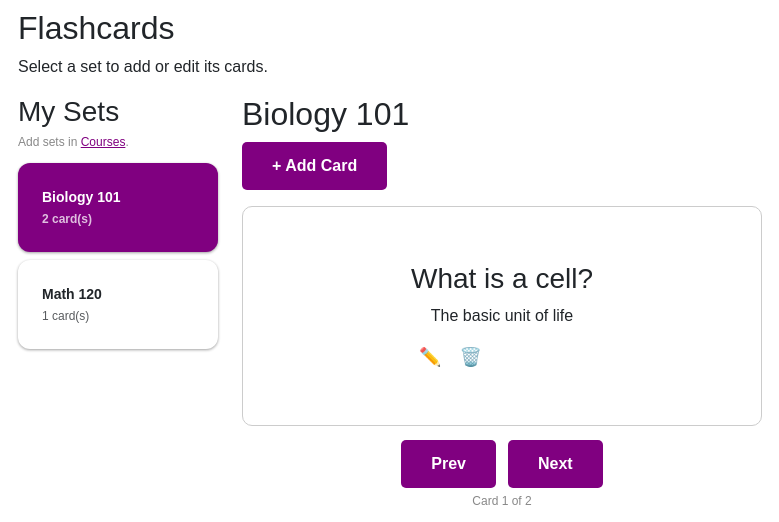
Test case: Editing flashcards › opens edit form with existing values
Click the button titled "Edit card". click: (430, 357)
box: [411,344,450,370]
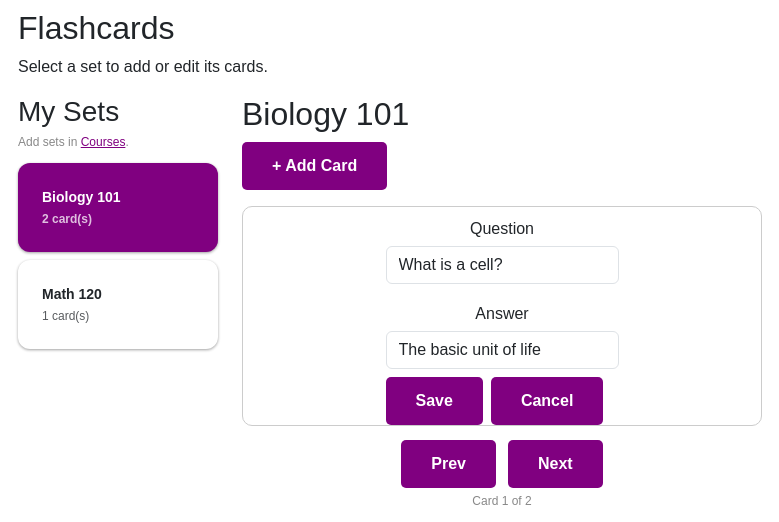
Expected: the field labelled "Question" holds "What is a cell?", [386,246,618,284]
Expected: the field labelled "Answer" holds "The basic unit of life", [386,331,618,369]
